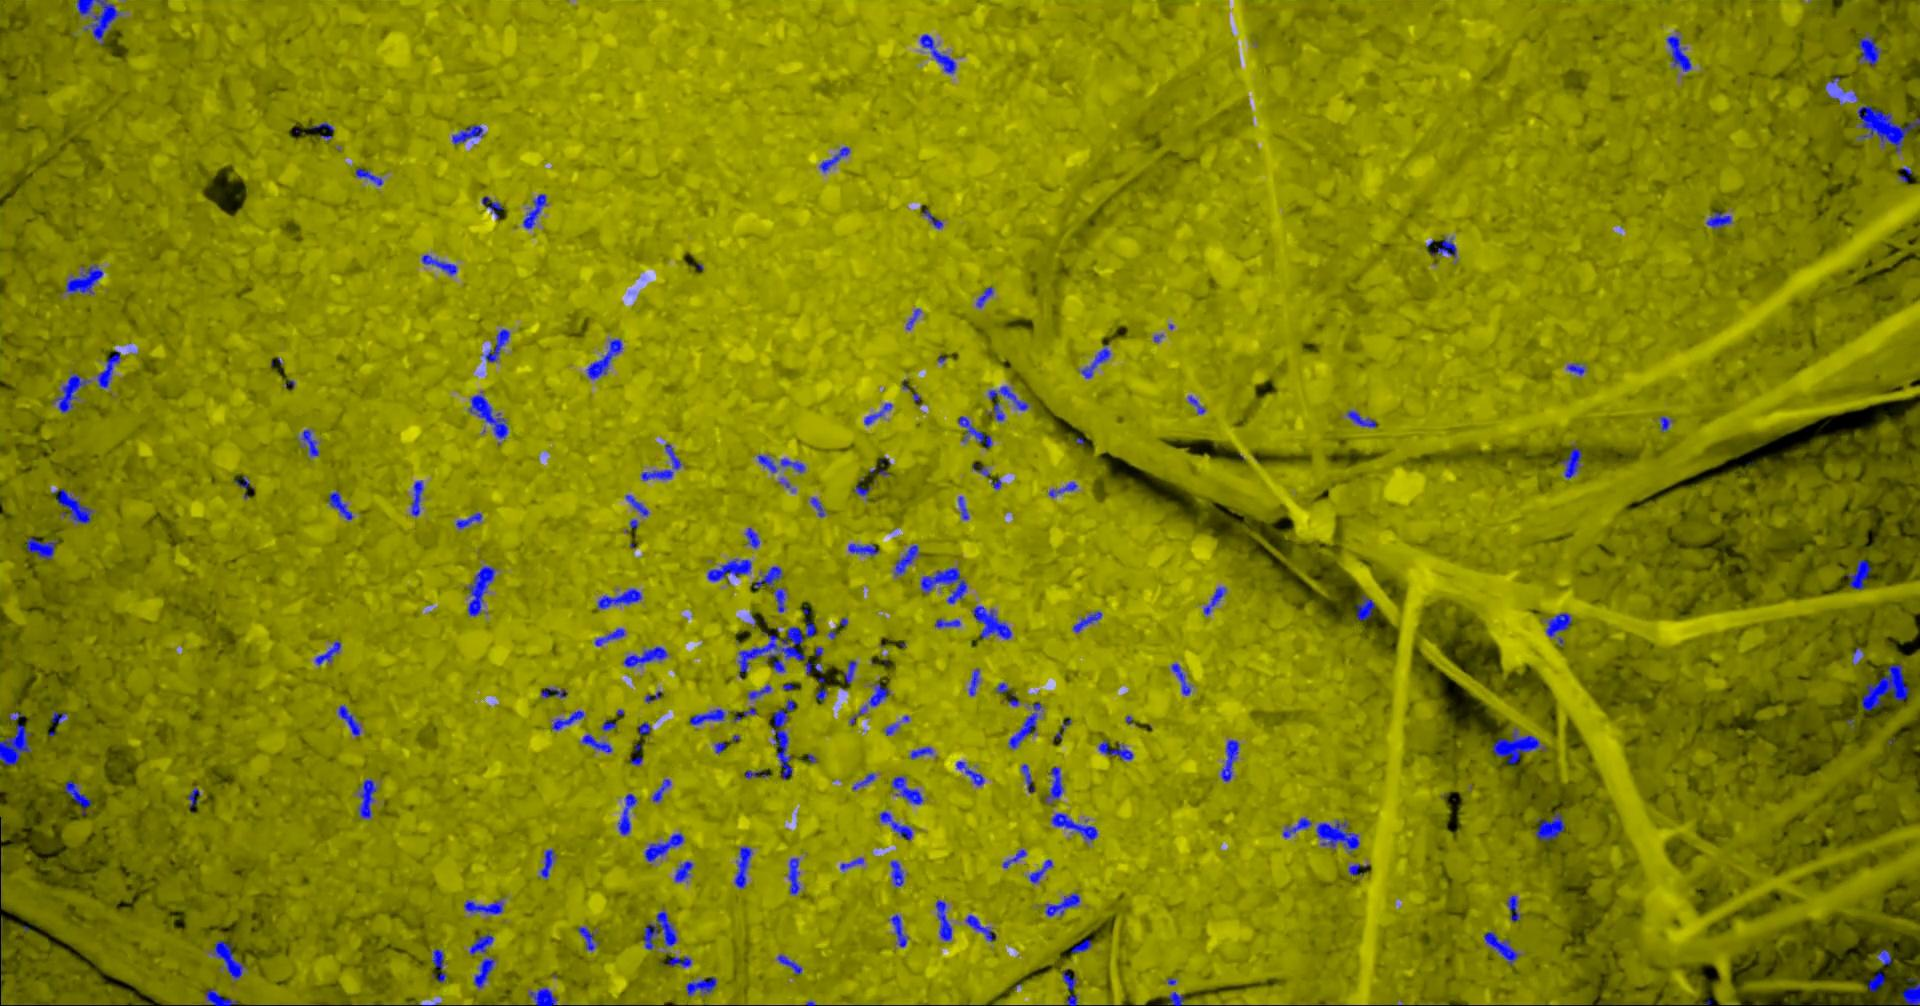ant: (1862, 663, 1909, 710), (1491, 728, 1545, 763), (76, 0, 119, 44), (772, 699, 795, 779), (469, 391, 507, 438), (919, 567, 966, 603), (850, 682, 889, 725), (0, 711, 30, 765), (1008, 701, 1041, 748), (52, 372, 91, 412), (585, 338, 622, 379), (640, 443, 681, 480), (52, 488, 93, 523), (1316, 821, 1359, 854), (467, 565, 495, 616), (919, 34, 955, 72), (971, 605, 1011, 639), (1050, 812, 1097, 840), (643, 909, 676, 949), (211, 939, 243, 979), (1483, 931, 1519, 965), (63, 264, 102, 295), (644, 832, 683, 861), (957, 415, 992, 447), (1079, 343, 1110, 379), (987, 385, 1029, 410), (706, 558, 750, 580), (890, 775, 923, 804), (879, 810, 912, 840), (63, 780, 91, 814), (1665, 36, 1691, 71), (596, 588, 641, 608), (1534, 810, 1564, 841), (757, 453, 805, 473), (623, 647, 667, 667), (522, 193, 547, 227), (484, 328, 509, 362), (1044, 892, 1079, 916), (617, 793, 637, 835), (97, 351, 119, 387), (1545, 612, 1571, 645), (690, 708, 740, 724), (1857, 33, 1881, 67), (965, 915, 996, 941), (818, 146, 850, 171), (357, 779, 377, 818), (1043, 766, 1063, 804), (894, 544, 918, 575), (337, 704, 361, 735), (1220, 739, 1238, 781), (734, 846, 752, 888), (955, 760, 984, 785), (422, 254, 456, 276), (25, 536, 57, 559), (1559, 445, 1581, 478), (328, 490, 352, 520), (1848, 559, 1870, 589), (750, 567, 782, 588), (472, 956, 494, 988), (314, 640, 340, 666), (550, 710, 583, 730), (935, 899, 951, 940), (1170, 663, 1190, 695), (684, 976, 716, 996), (863, 401, 891, 424), (1203, 586, 1225, 614), (1072, 611, 1101, 633), (451, 124, 484, 144), (1098, 741, 1131, 760), (1429, 235, 1457, 257), (1283, 815, 1310, 837), (889, 915, 907, 948), (527, 986, 557, 1005), (1062, 968, 1077, 1005), (463, 901, 503, 915), (1029, 859, 1051, 882), (430, 948, 446, 982), (623, 494, 648, 516), (594, 627, 623, 645), (582, 734, 611, 752), (1355, 594, 1375, 620), (776, 954, 801, 974), (1346, 410, 1377, 427), (538, 848, 555, 879), (204, 989, 237, 1005), (354, 168, 382, 185), (1901, 977, 1919, 1005), (481, 196, 503, 218), (577, 926, 597, 950), (469, 934, 493, 954), (301, 429, 319, 456), (1002, 848, 1026, 868), (410, 480, 423, 516), (1048, 481, 1077, 497), (455, 512, 481, 528), (651, 779, 670, 801), (787, 857, 799, 895), (847, 542, 877, 556), (1705, 211, 1731, 227), (674, 860, 693, 882), (1020, 763, 1034, 793), (310, 122, 333, 140), (851, 772, 874, 790), (922, 208, 942, 227), (745, 683, 771, 699), (1506, 895, 1521, 921), (975, 286, 993, 307), (1867, 970, 1884, 991), (890, 859, 903, 887), (1187, 395, 1205, 414), (987, 401, 1004, 420), (909, 746, 933, 760), (772, 587, 785, 612), (744, 527, 759, 547), (1070, 937, 1091, 953), (660, 956, 691, 967), (839, 857, 863, 870), (968, 668, 979, 695), (905, 307, 919, 329), (843, 661, 856, 683), (810, 497, 824, 517), (540, 687, 566, 697), (804, 661, 822, 674), (1877, 948, 1891, 965), (957, 495, 968, 520), (744, 768, 768, 779), (1566, 362, 1585, 375), (187, 788, 199, 807), (1349, 862, 1368, 875), (971, 464, 989, 476), (935, 619, 960, 627), (644, 690, 662, 702), (234, 476, 253, 488), (1658, 415, 1672, 431), (51, 710, 66, 724), (1168, 991, 1183, 1005), (1898, 166, 1911, 180), (884, 723, 898, 735), (601, 719, 616, 730), (637, 721, 650, 734), (815, 688, 827, 702), (855, 485, 870, 495)
